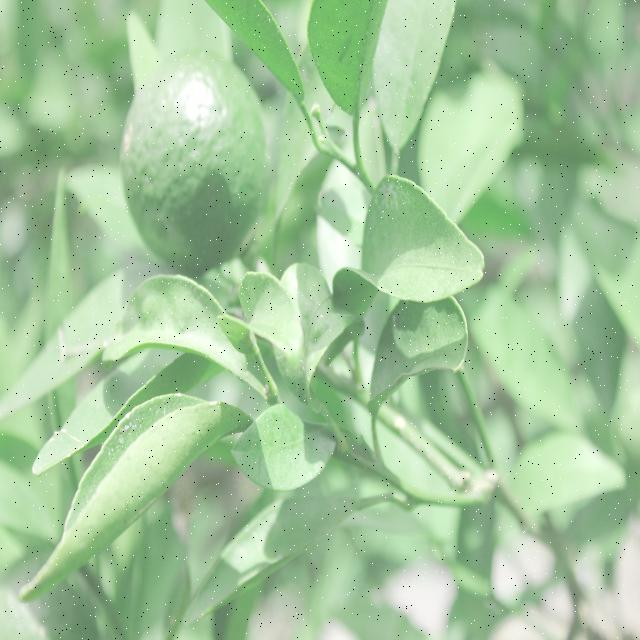blackspot: (47, 401, 248, 569), (311, 1, 388, 111), (214, 0, 297, 92)
